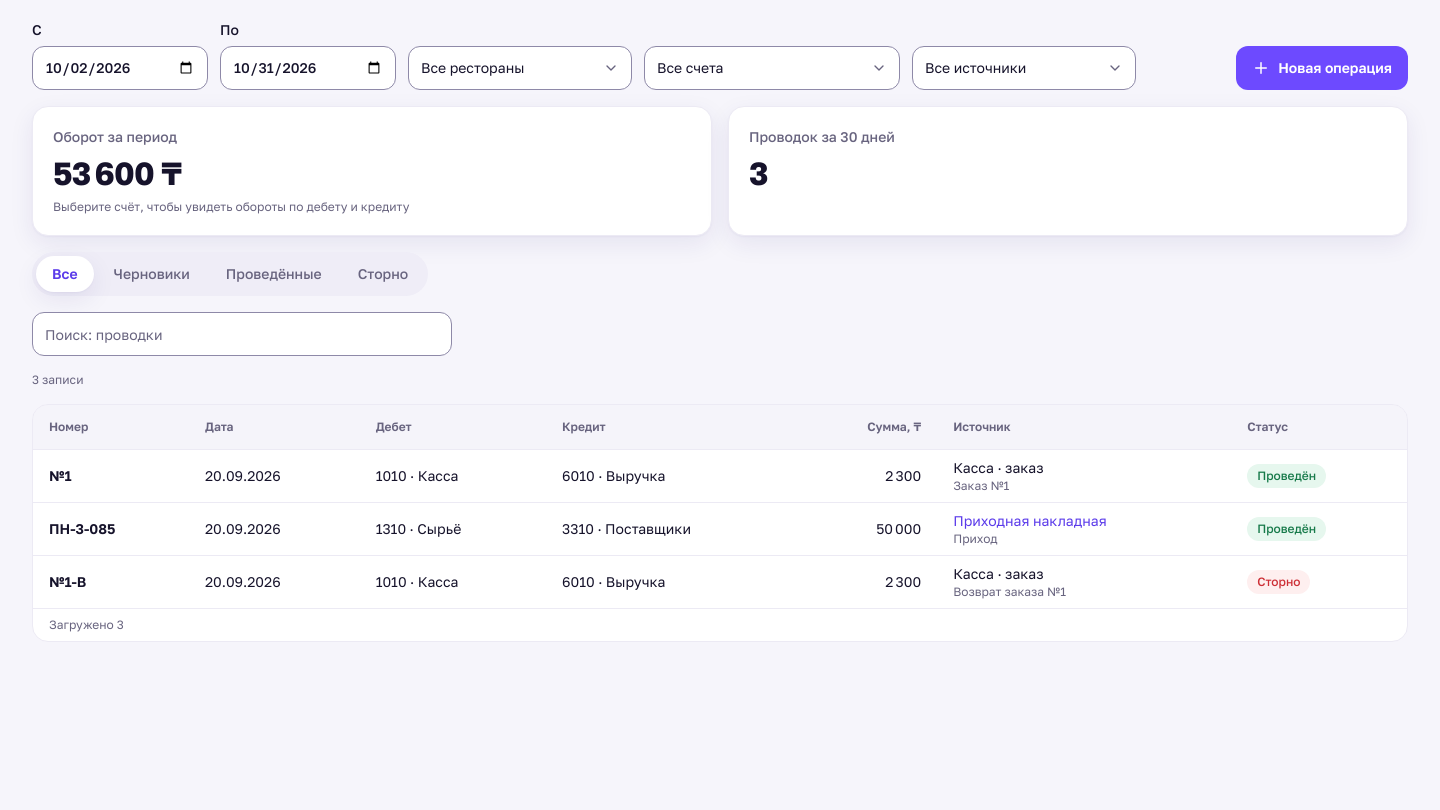
«Проводки» journal (W1-FIN-05) › filtering by an account switches KPI to Dr/Cr turnover — different numbers — and narrows the journal
This screenshot has width=1440, height=810.
Step 1. Click the dropdown named "Счёт" → (772,68), box [644,46,900,90]
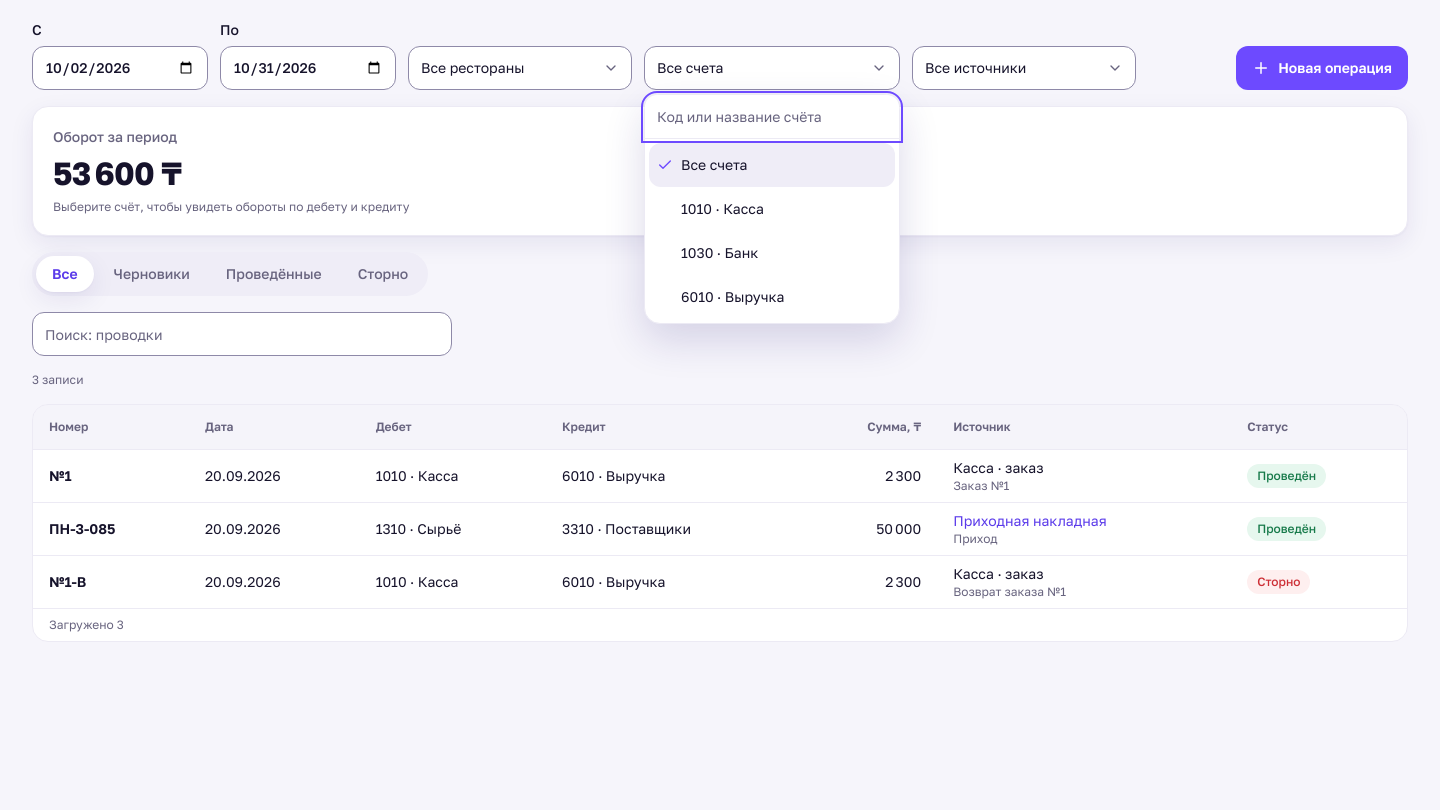
Step 2. Click the option "1010 · Касса" → (722,208), box [681,200,764,217]
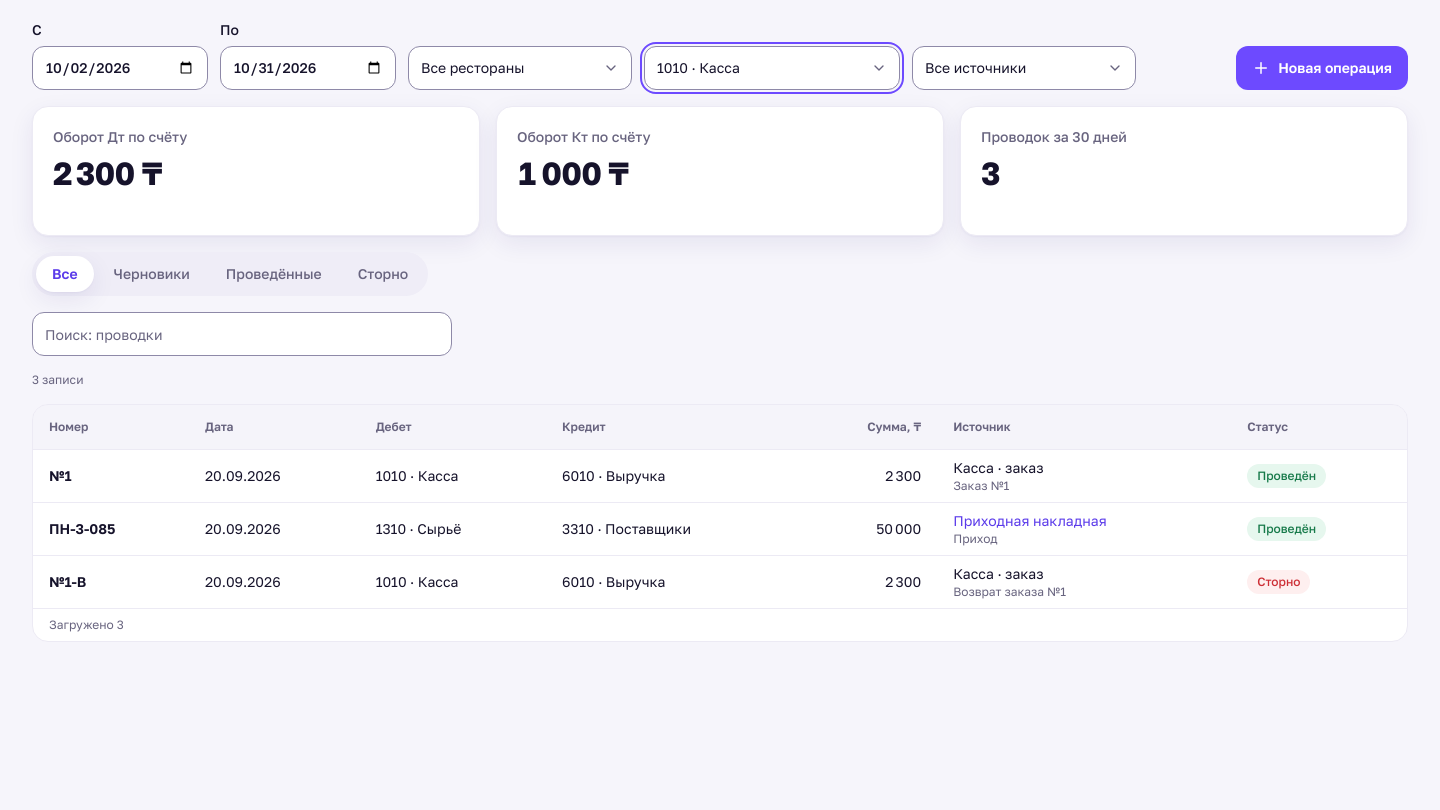
Result: the text "Оборот Дт по счёту" is shown at [53,128,188,145]
Result: the text "Оборот за период" is gone
